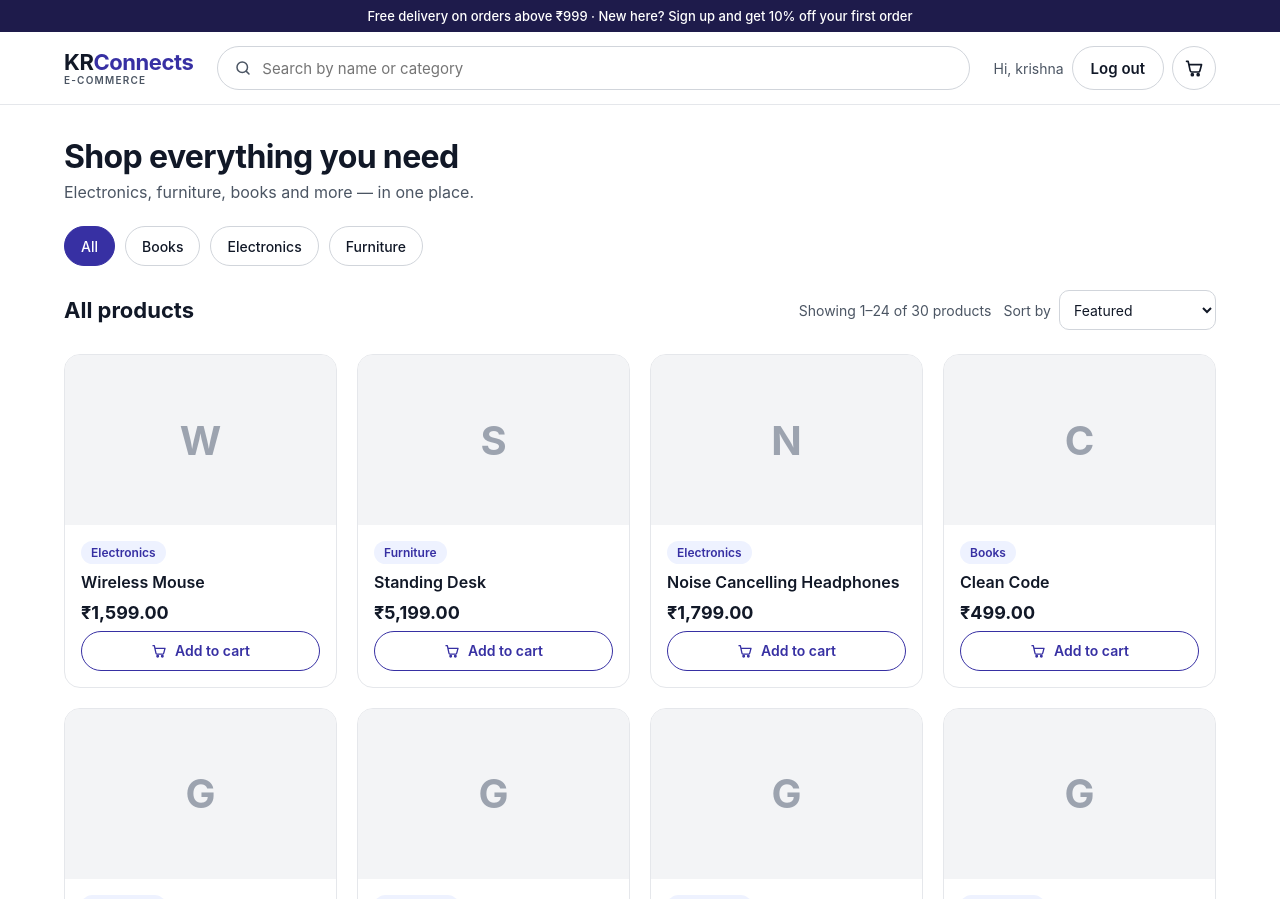
Test: Sign up and log in (Auth API) › log out removes the token
The width and height of the screenshot is (1280, 899).
Expected: the text "Hi, krishna" is shown, [994,60,1064,76]
Click the button "Log out".
click(1118, 68)  # box [1072,46,1164,90]
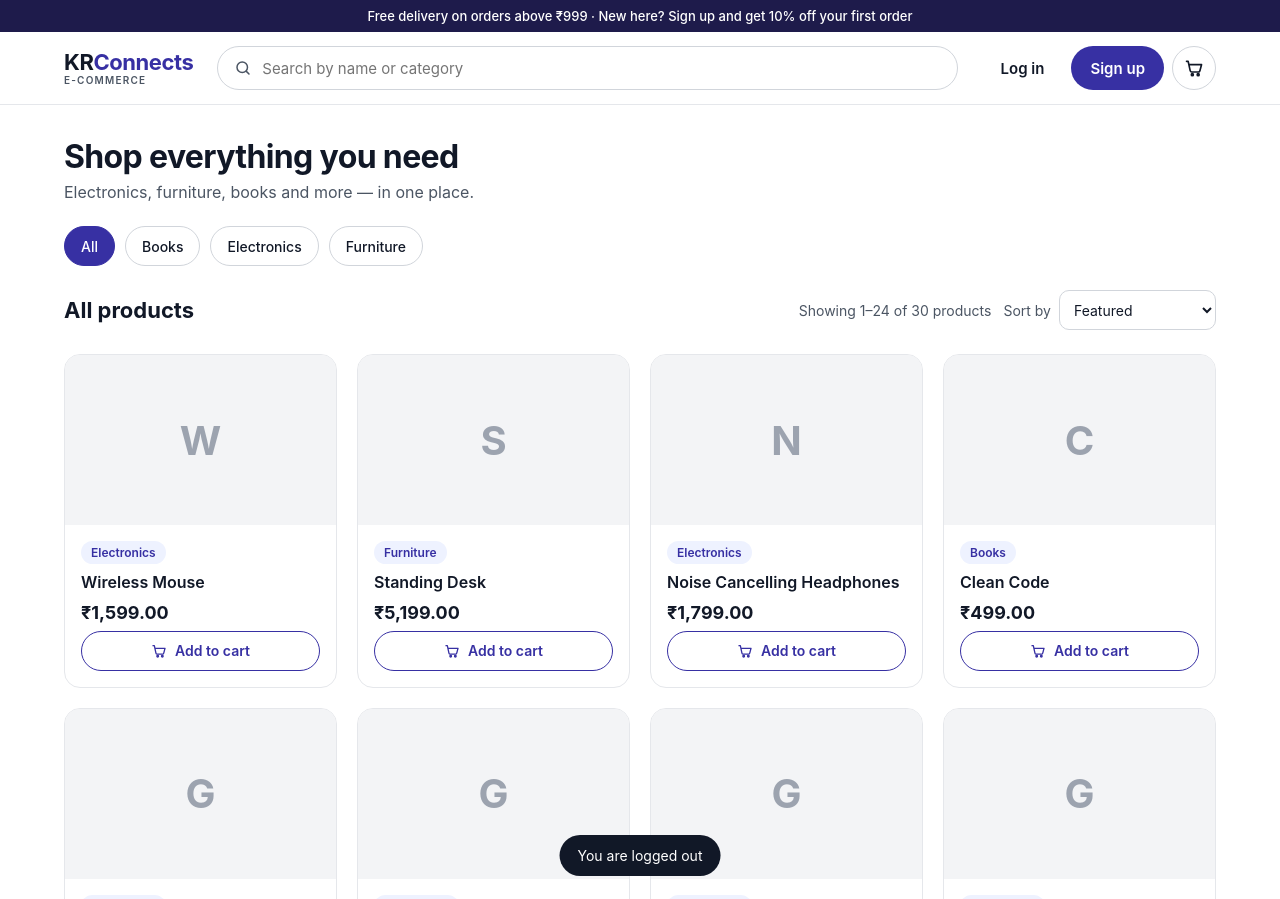
Now the button "Log in" is shown, box [982,46,1063,90]
